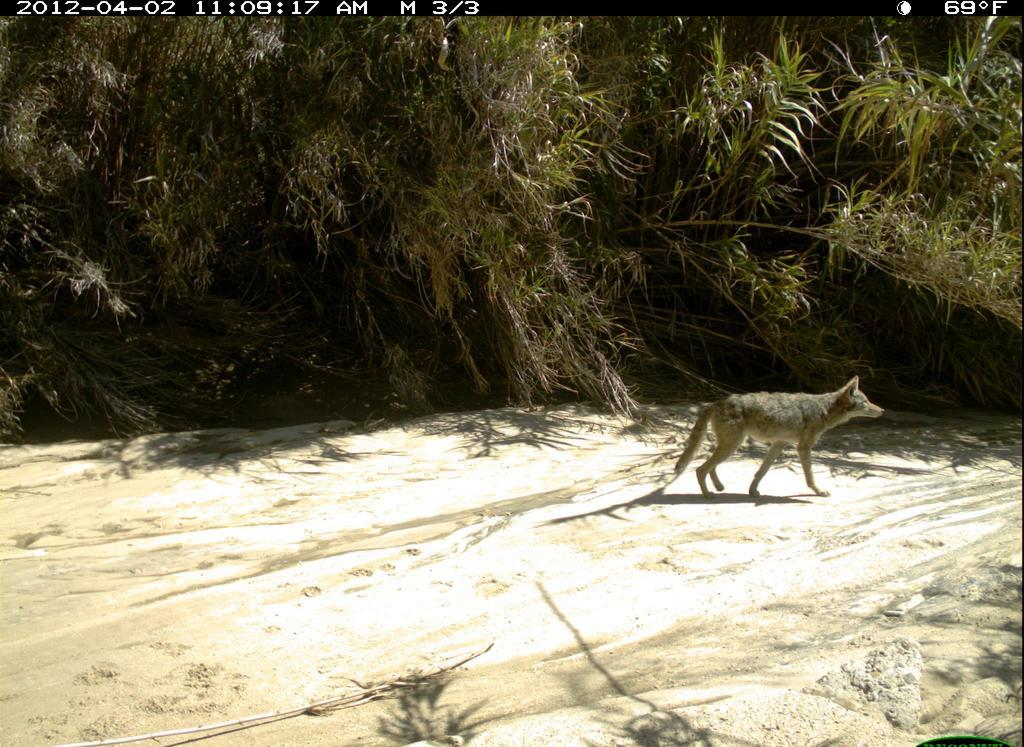coyote: (666, 369, 888, 509)
